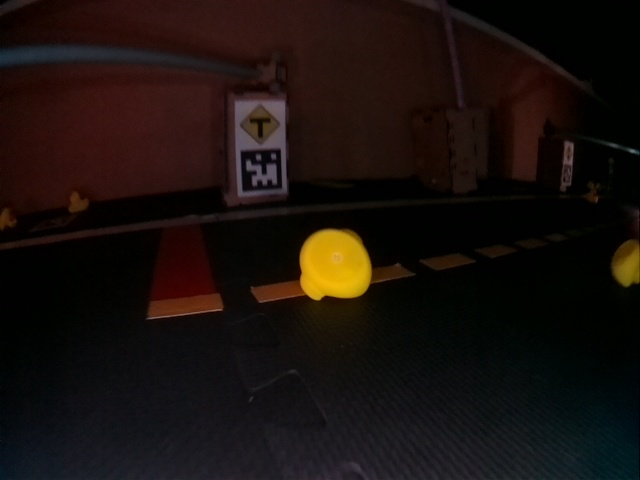Duckie: (299, 229, 372, 301), (611, 239, 639, 287), (68, 192, 89, 213), (0, 208, 16, 230), (587, 190, 598, 203)
Intersection sign: (239, 103, 281, 146)
QR code: (239, 149, 283, 193), (31, 214, 76, 232), (563, 164, 572, 183)
Stop sign: (564, 143, 573, 162)
